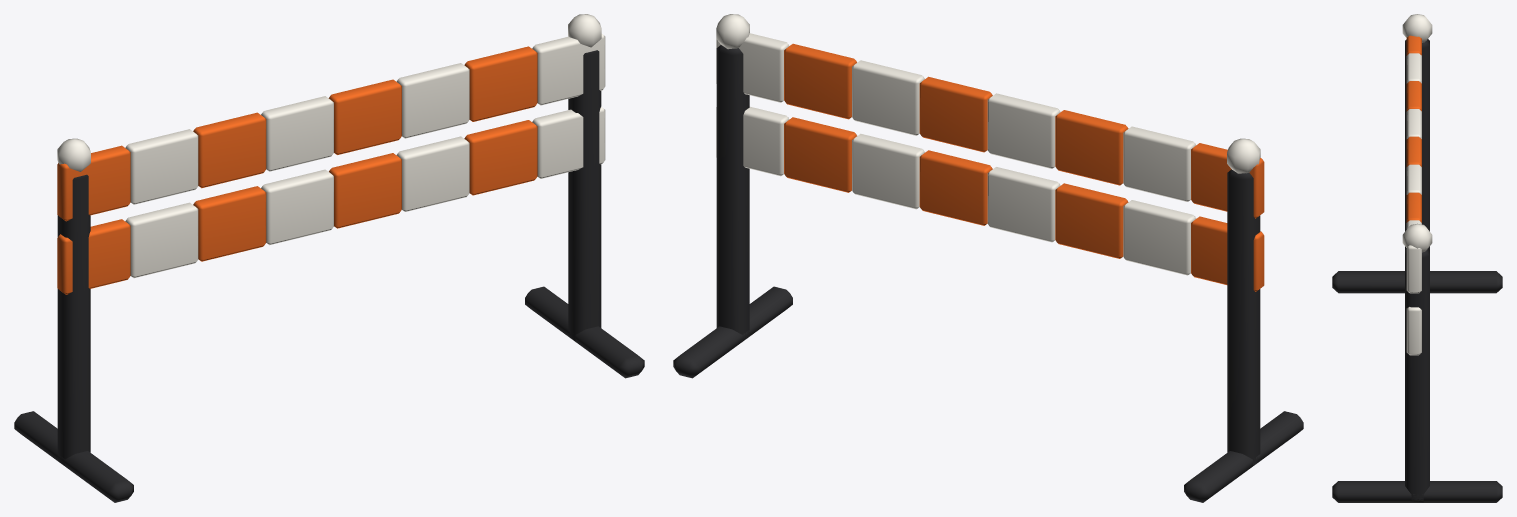
File: road_barrier.glb
3 views of the same model, side by side, from view 1: azimuth 30°, elevation 25°; view 2: azimuth 150°, elevation 25°; view 3: azimuth 270°, elevation 25° (orthographic). The views are drawn at different scales.
Parts seen in each view (by area): view 1: road_barrier; view 2: road_barrier; view 3: road_barrier.
Boxes of the visible parts, x1,y1,x2,y2 form: road_barrier: [14, 14, 644, 502]; road_barrier: [673, 14, 1303, 502]; road_barrier: [1332, 14, 1502, 502].
Bounding box in the file's own units: 1.7 × 0.98 × 0.55.
